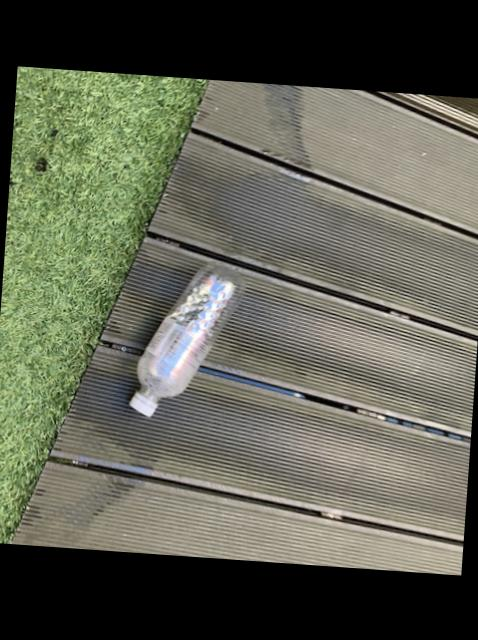plastic: (131, 265, 246, 416)
